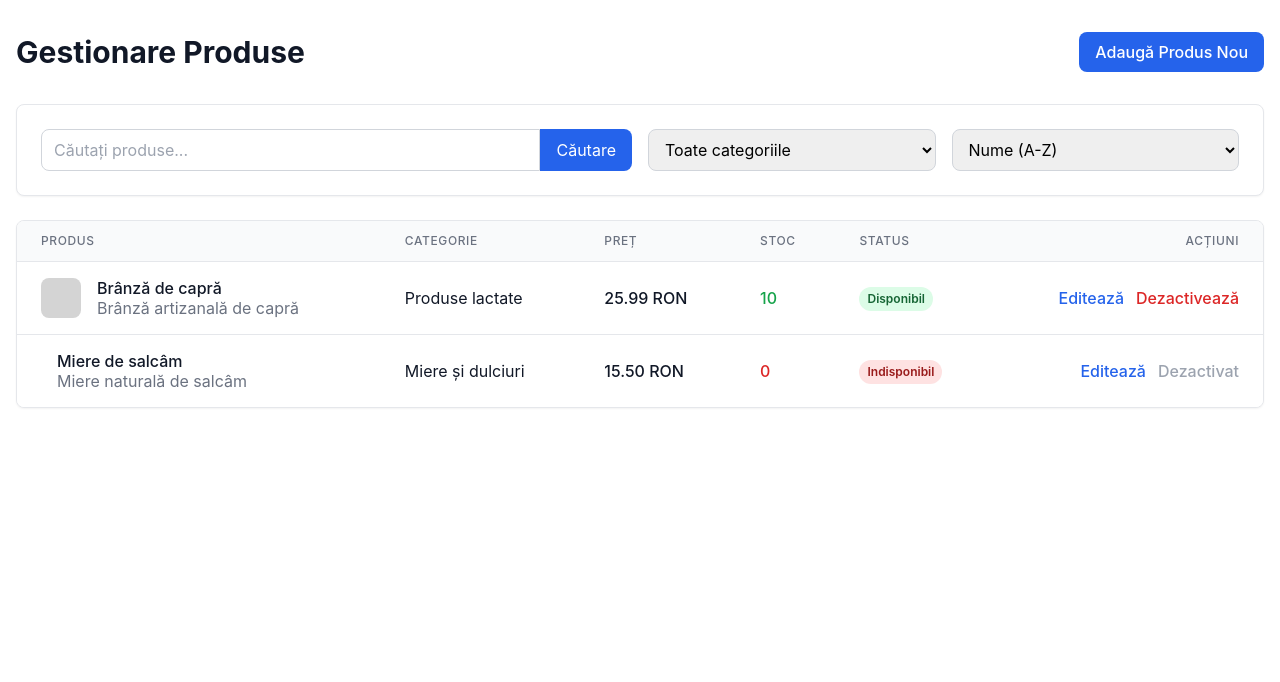
ProductManager Component › Product Editing › opens edit modal with pre-populated data
This screenshot has width=1280, height=682.
Expected: the text "Brânză de capră" is shown, left=97, top=278, right=222, bottom=298
Click the button "Editează" in the row of "Brânză de capră" at coordinates (1091, 298), box left=1058, top=288, right=1124, bottom=308
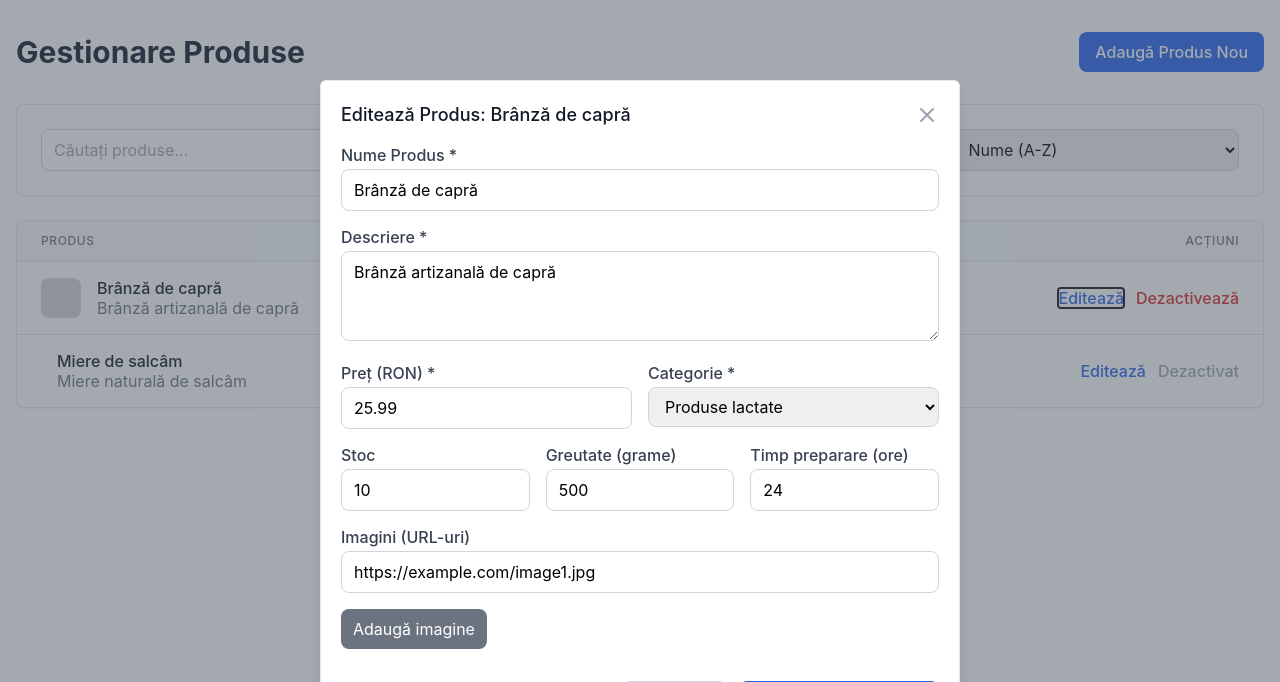
Now the field showing "Brânză de capră" below "Nume Produs *" is shown, box left=341, top=169, right=939, bottom=211
Now the number field showing "25.99" below "Preț (RON) *" is shown, box left=341, top=387, right=632, bottom=429
